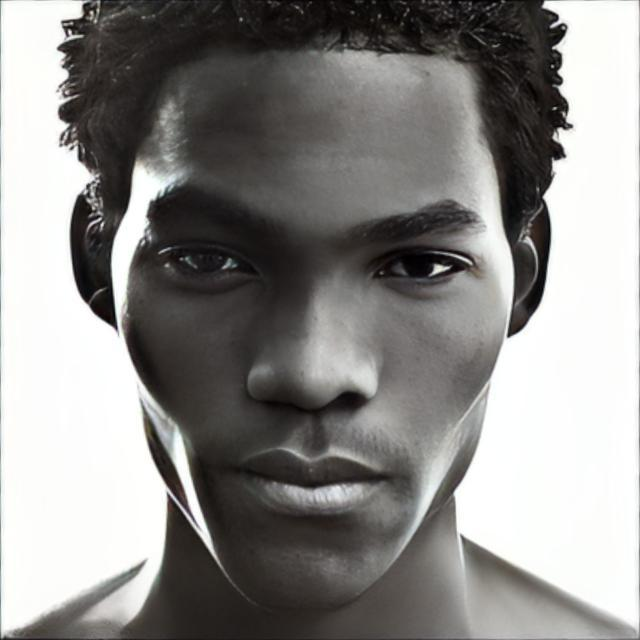anger: (115, 79, 514, 596)
